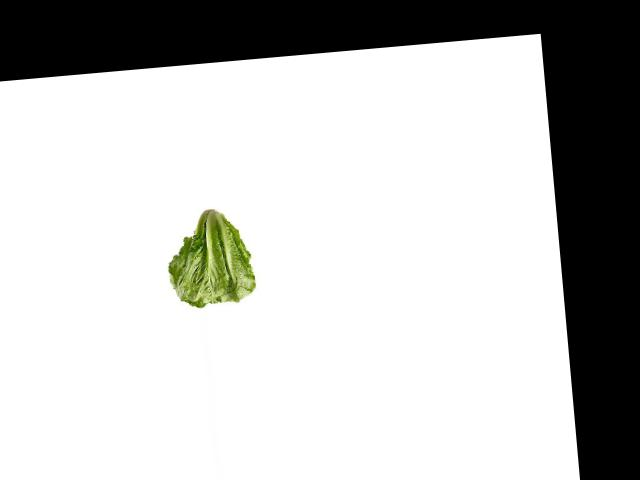lettuce: (159, 201, 254, 312)
